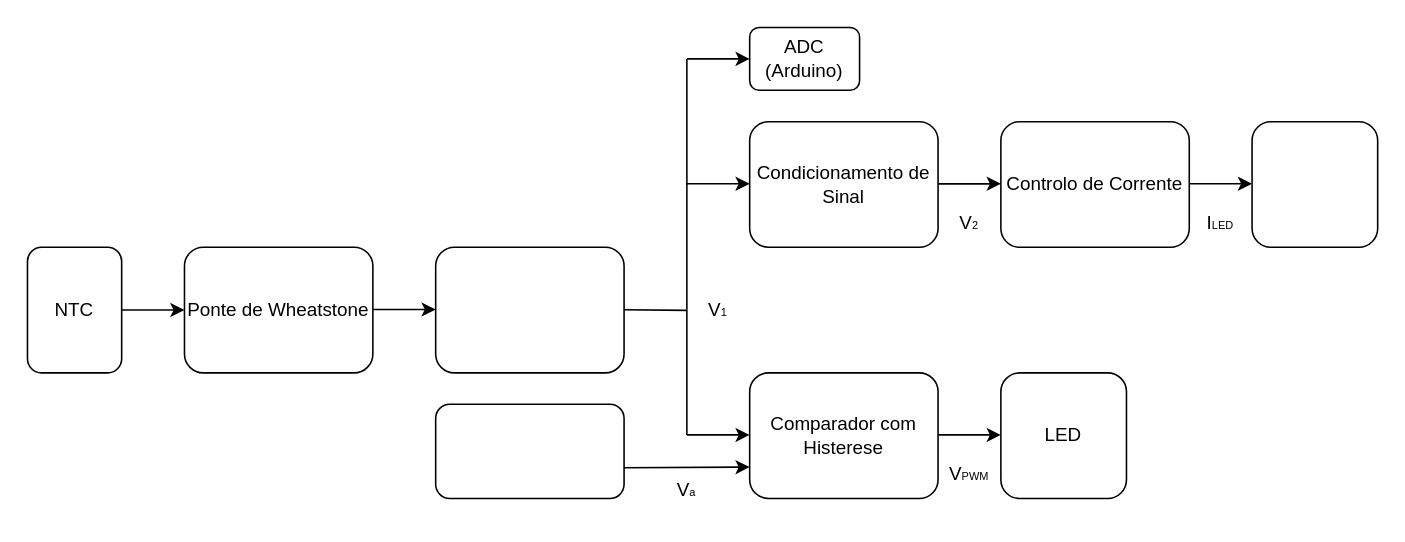
Image size: 1405x542. Some labels were removed from this diagram. The shapes that lost their labels are listed below. From the top down, each one's box as (x1, y1, x2, y2) in pixels, then its label:
(1251, 120, 1378, 247): LEDs
(434, 246, 624, 373): Amplificador de Instrumenção (IA)
(434, 403, 624, 498): Onda Triangular Através do Gerador de Sinais
